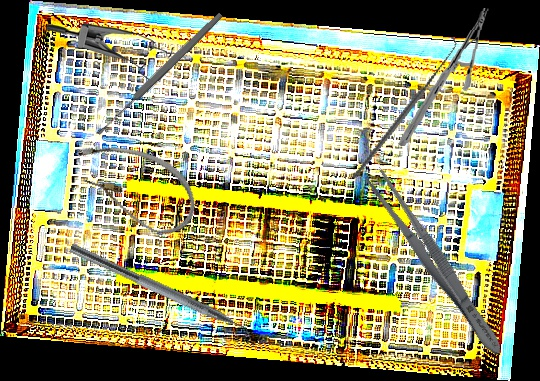Cannula: (60, 130, 208, 244)
Chopper: (62, 242, 264, 351)
Dressing Forceps: (361, 164, 511, 363)
Hook Surgical: (317, 35, 491, 181)
Needle Holder: (398, 3, 490, 151)
Speculum: (46, 22, 174, 85)
Surgical Spoon: (94, 11, 225, 137)
